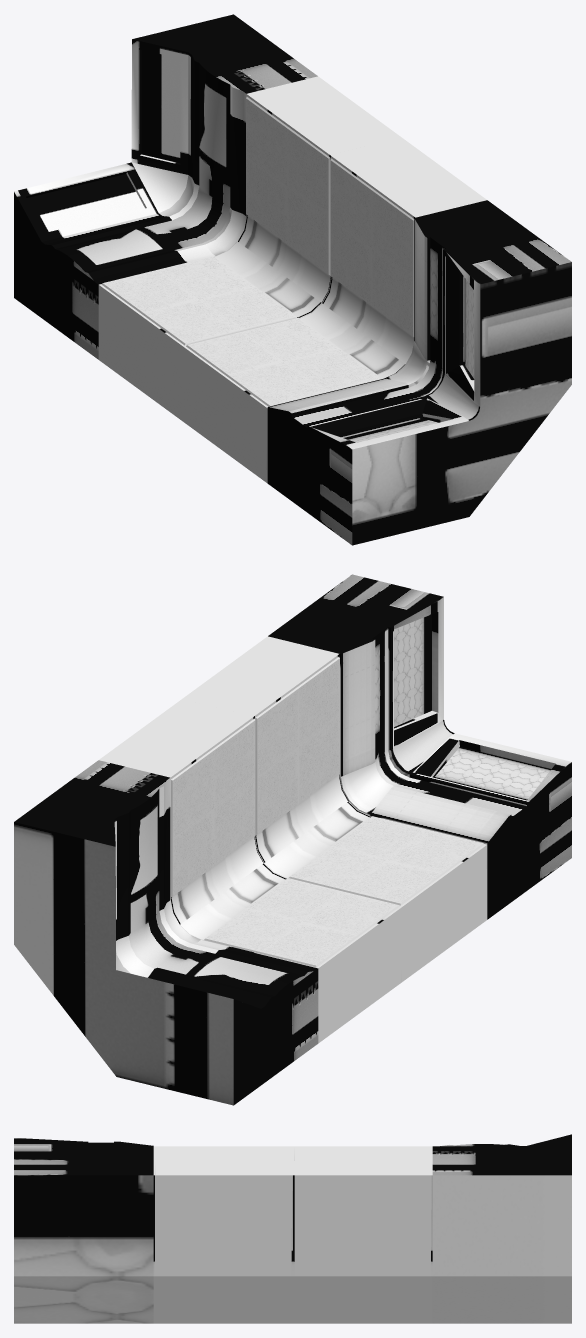
File: WallCornerIn_2.fbx
The picture shows the model from 3 angles, top to bottom: view 1: azimuth 30°, elevation 25°; view 2: azimuth 150°, elevation 25°; view 3: azimuth 270°, elevation 25°; orthographic projection. The views are drawn at different scales.
Visible parts, largest first — view 1: WallCornerIn_2; view 2: WallCornerIn_2; view 3: WallCornerIn_2.
Part boxes in pixels (x1,y1,x2,y2): WallCornerIn_2: [14, 14, 571, 545]; WallCornerIn_2: [14, 574, 571, 1105]; WallCornerIn_2: [14, 1134, 571, 1323].
Size of the model in its own units: 1.5 by 1.5 by 4.
